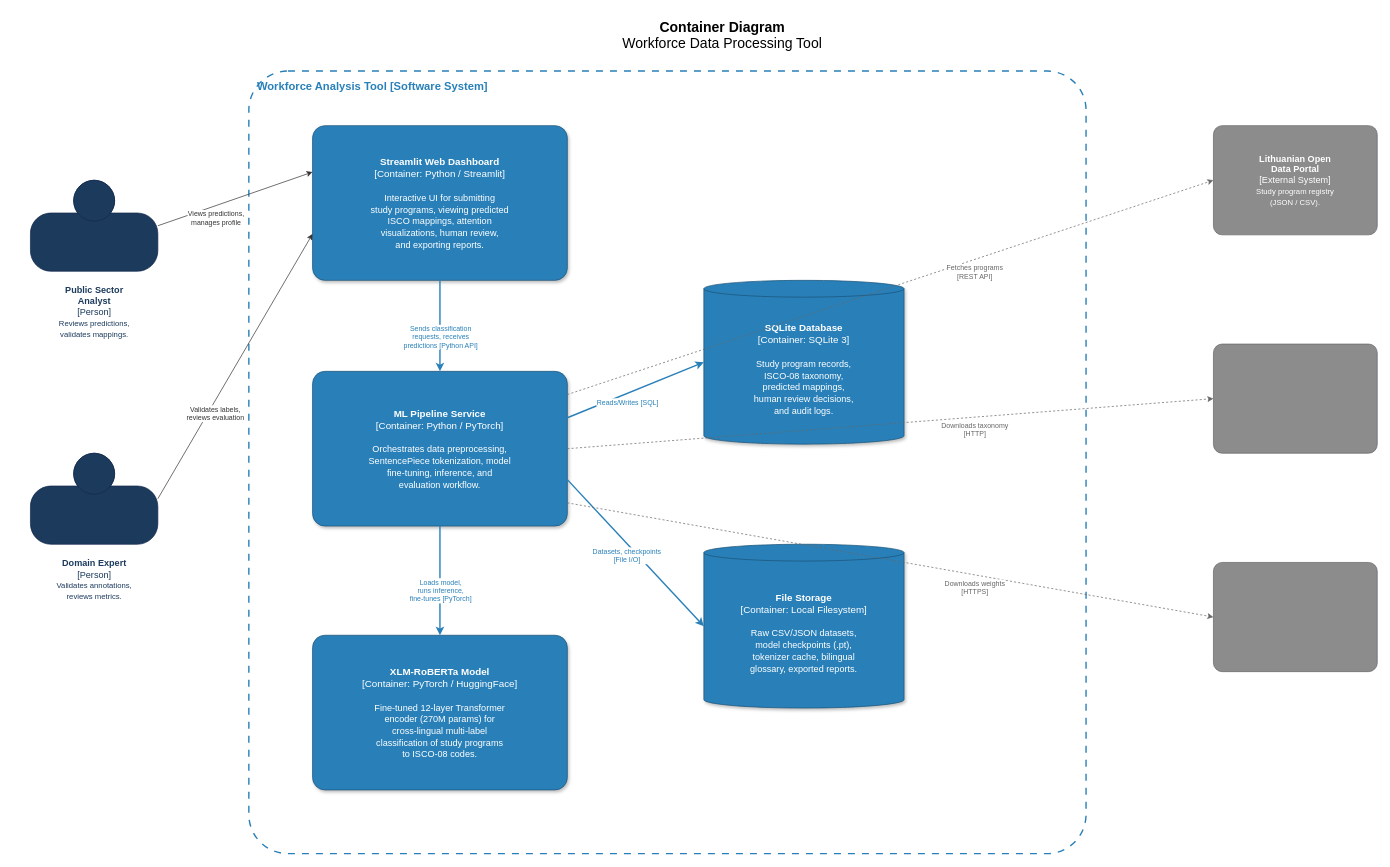
Some shapes in this 1390 by 867 pixel diagram are drawn without their labels. Each missing label, with the centre of its shape:
HuggingFace Model Hub [External System] Pre-trained XLM-RoBERTa base weights.: point (1295, 617)
ILO ISCO-08 Database [External System] Occupation taxonomy (XML / CSV).: point (1295, 398)
